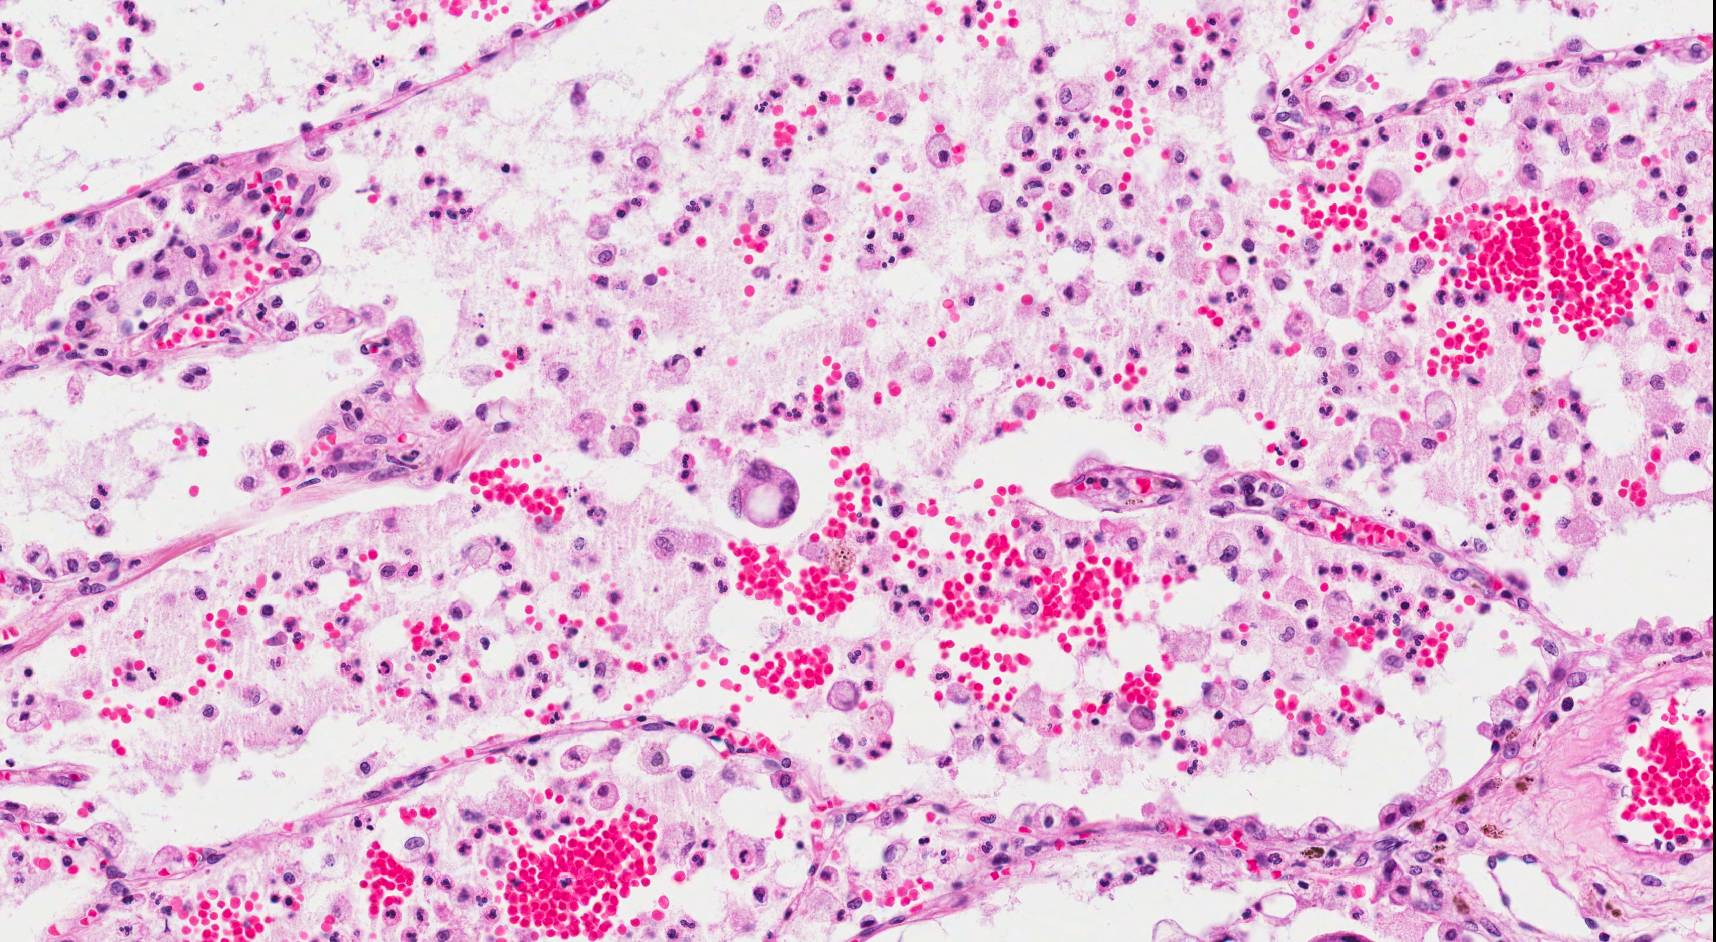stas: (724, 456, 799, 528)
